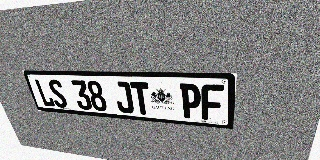3: (71, 80, 93, 110)
8: (86, 80, 108, 112)
F: (201, 84, 224, 121)
J: (112, 81, 135, 114)
L: (34, 79, 56, 107)
P: (180, 83, 201, 119)
S: (46, 79, 69, 108)
T: (130, 82, 152, 115)
